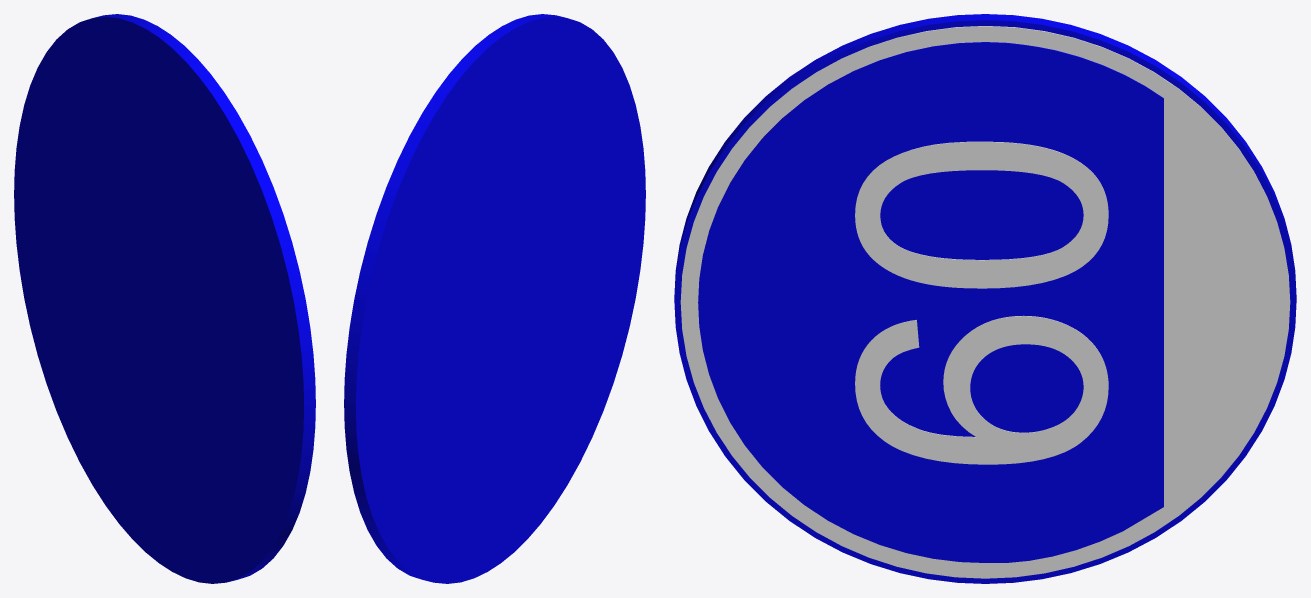
Rendered from 最低限速60.gltf.
3 renders of one model, left to right at view 1: azimuth 30°, elevation 25°; view 2: azimuth 150°, elevation 25°; view 3: azimuth 270°, elevation 25°, orthographic. The views are drawn at different scales.
Visible parts, largest first — view 1: 最低时速限制60; view 2: 最低时速限制60; view 3: 最低时速限制60.
Boxes of the visible parts, x1,y1,x2,y2 form: 最低时速限制60: [14, 14, 315, 583]; 最低时速限制60: [344, 14, 645, 583]; 最低时速限制60: [674, 14, 1296, 583].
Bounding box in the file's own units: 0.0213 × 0.7691 × 0.7691.
